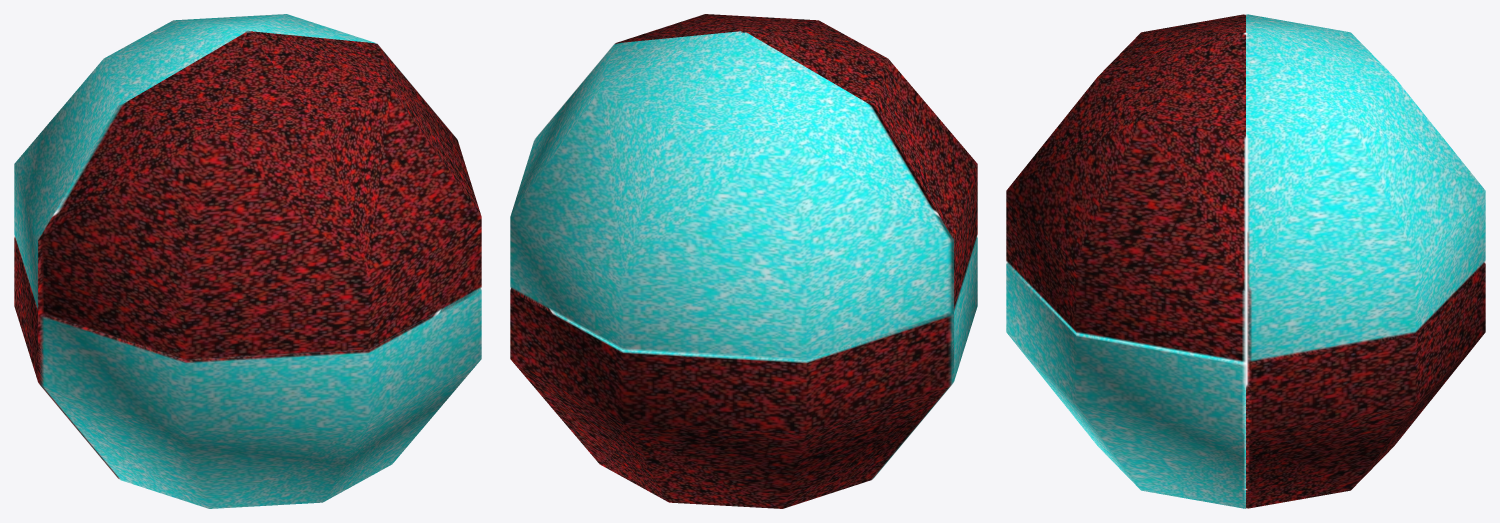
3 renders of one model, left to right at view 1: azimuth 30°, elevation 25°; view 2: azimuth 150°, elevation 25°; view 3: azimuth 270°, elevation 25°, orthographic.
Visible parts, largest first — view 1: SM_VFX_UVSphere_1m_64_LOD0; view 2: SM_VFX_UVSphere_1m_64_LOD0; view 3: SM_VFX_UVSphere_1m_64_LOD0.
Part boxes in pixels (<box>): SM_VFX_UVSphere_1m_64_LOD0: <box>14,14,481,508</box>; SM_VFX_UVSphere_1m_64_LOD0: <box>510,14,977,508</box>; SM_VFX_UVSphere_1m_64_LOD0: <box>1006,14,1485,508</box>.
Bounding box in the file's own units: 0.951 × 1 × 0.951.
1 material, 1 textured.
